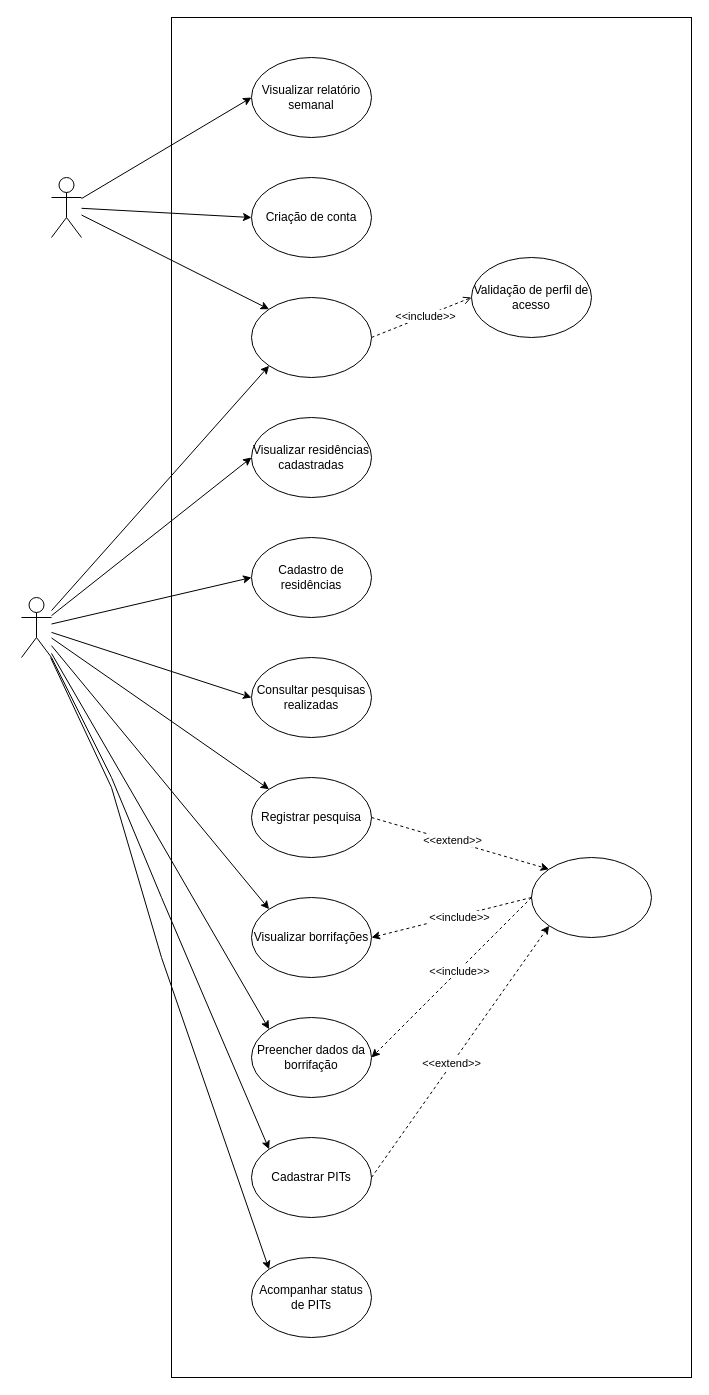
Image size: 709x1395. Some labels were removed from this diagram. The centre of each missing label's shape, as x and y in pixels:
"Agente" belongs at pixel 36 627.
"Agente-chefe" belongs at pixel 66 207.
"Alerta de borrifação" belongs at pixel 591 897.
"Login" belongs at pixel 311 337.
